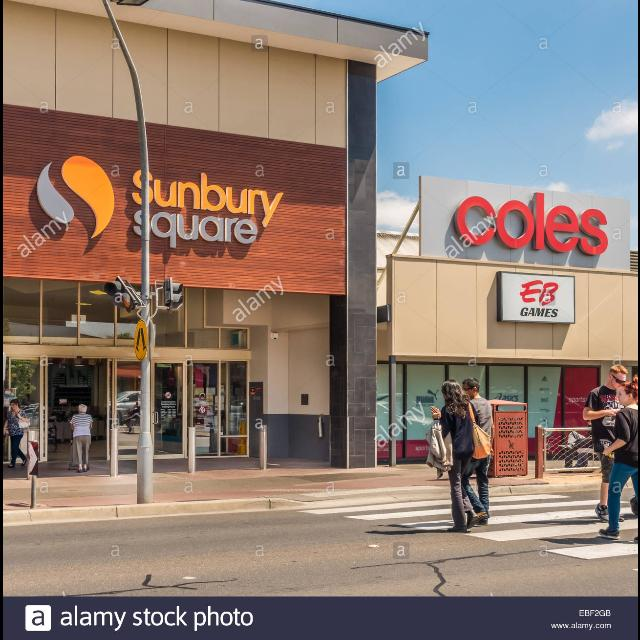head: (608, 365, 628, 391), (442, 380, 461, 402), (462, 378, 481, 398), (9, 399, 19, 411), (601, 401, 611, 413), (77, 404, 87, 414)
person: (422, 378, 478, 534), (582, 364, 636, 524), (446, 378, 496, 526), (558, 396, 612, 472), (2, 397, 30, 469), (68, 403, 92, 473)
